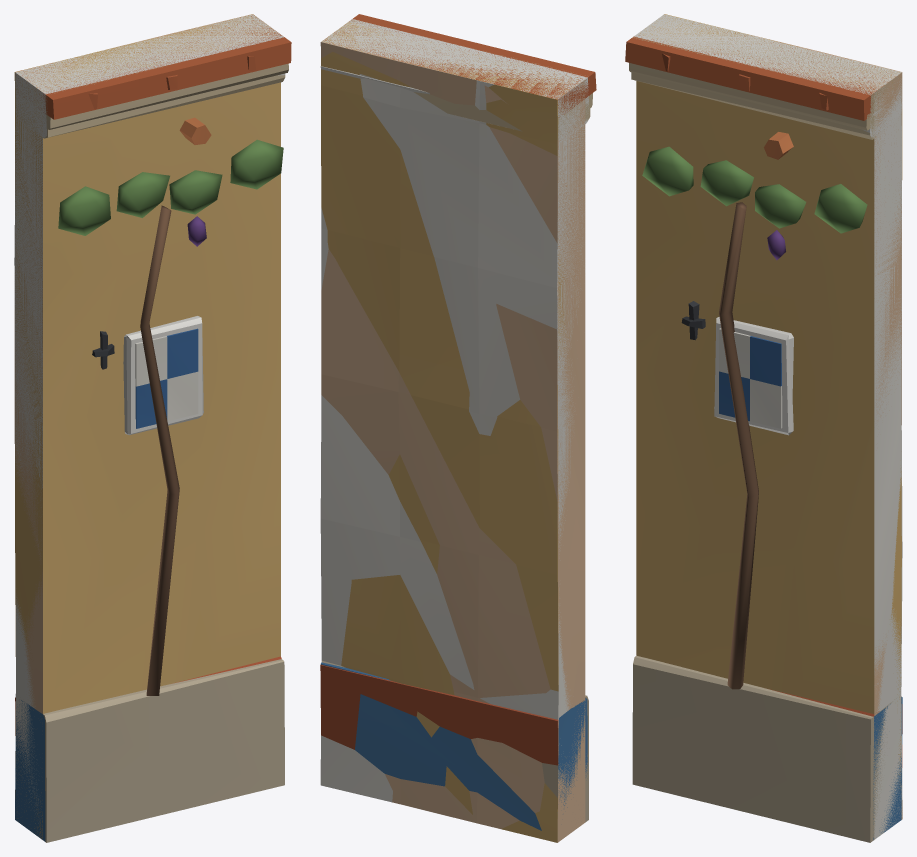
Rendered from wall.plain.glb.
3 views of the same model, side by side, from view 1: azimuth 30°, elevation 25°; view 2: azimuth 150°, elevation 25°; view 3: azimuth 330°, elevation 25° (orthographic).
Parts seen in each view (by area): view 1: wall.plain.v1.mesh, wall.plain.v0.mesh, wall.plain.v2.mesh; view 2: wall.plain.v0.mesh, wall.plain.v2.mesh, wall.plain.v1.mesh; view 3: wall.plain.v1.mesh, wall.plain.v0.mesh, wall.plain.v2.mesh.
Boxes of the visible parts, bbox=[...] form: wall.plain.v1.mesh: bbox=[14, 14, 291, 842]; wall.plain.v0.mesh: bbox=[14, 14, 283, 841]; wall.plain.v2.mesh: bbox=[14, 14, 288, 735]; wall.plain.v0.mesh: bbox=[320, 19, 589, 830]; wall.plain.v2.mesh: bbox=[320, 20, 592, 842]; wall.plain.v1.mesh: bbox=[320, 14, 596, 842]; wall.plain.v1.mesh: bbox=[625, 14, 902, 842]; wall.plain.v0.mesh: bbox=[634, 14, 902, 839]; wall.plain.v2.mesh: bbox=[629, 18, 902, 819].
Bounding box in the file's own units: 0.9999 × 3 × 0.2922.
